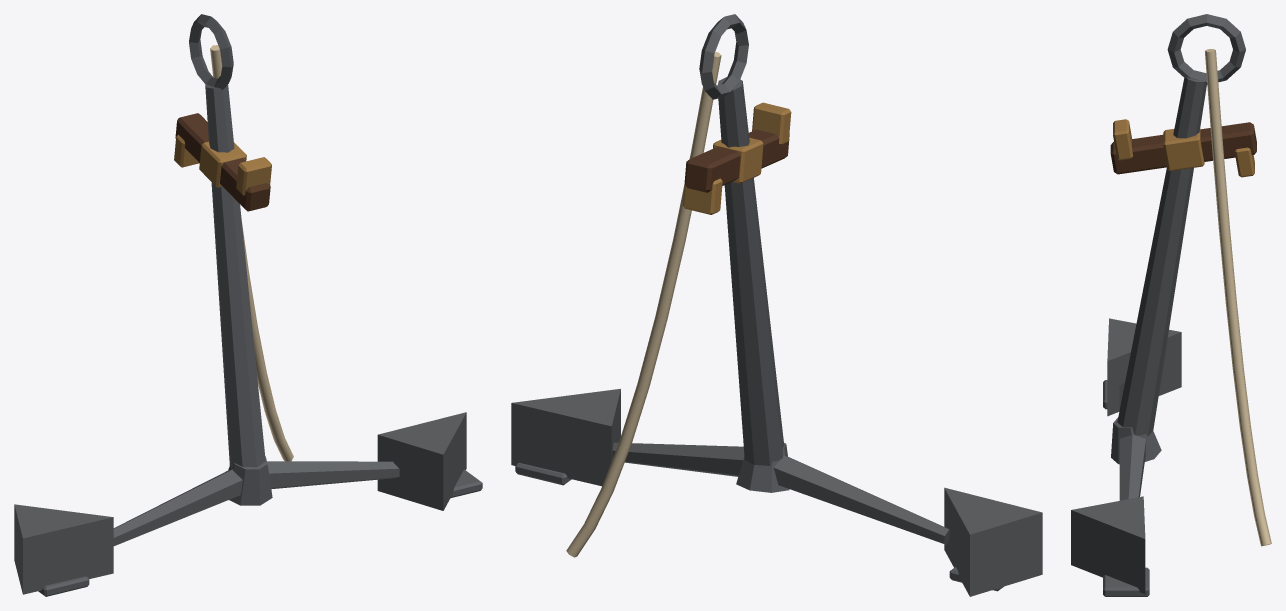
The model's file is prop_anchor_admiralty_a.glb.
3 views of the same model, side by side, from view 1: azimuth 30°, elevation 25°; view 2: azimuth 150°, elevation 25°; view 3: azimuth 270°, elevation 25° (orthographic). The views are drawn at different scales.
Parts seen in each view (by area): view 1: anchor_arm_0, anchor_stock_collar, anchor_stock, anchor_cable; view 2: anchor_arm_0, anchor_cable, anchor_stock_collar, anchor_stock; view 3: anchor_arm_0, anchor_cable, anchor_stock, anchor_stock_collar.
Boxes of the visible parts, x1,y1,x2,y2 form: anchor_arm_0: (14, 14, 482, 596); anchor_stock_collar: (174, 134, 271, 195); anchor_stock: (175, 113, 270, 211); anchor_cable: (210, 45, 293, 461); anchor_arm_0: (511, 14, 1042, 596); anchor_cable: (566, 52, 721, 557); anchor_stock_collar: (683, 102, 791, 214); anchor_stock: (684, 129, 789, 192); anchor_arm_0: (1071, 14, 1245, 596); anchor_cable: (1205, 49, 1271, 546); anchor_stock: (1110, 122, 1256, 174); anchor_stock_collar: (1113, 119, 1254, 177).
Size of the model in its own units: 2.23 by 2.28 by 0.859.
